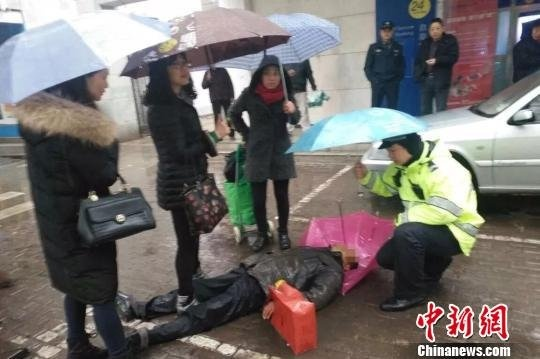falling: (111, 230, 363, 358)
